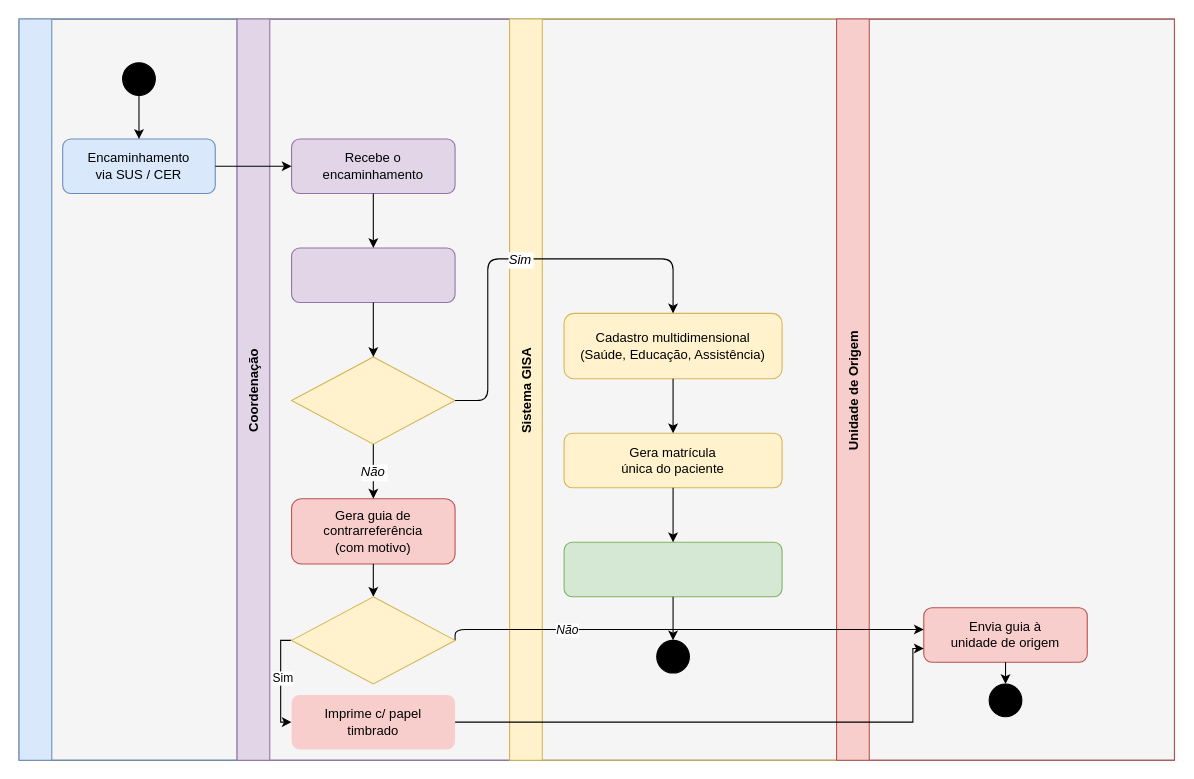
The diagram is 1194 pixels wide and 779 high, and some of its shapes have lost their labels. The box of each missing label's shape, as (x1, y1, x2, y2) in pixels:
Agenda primeira consulta: (563, 541, 782, 597)
Atende aos requisitos?: (290, 356, 455, 444)
Paciente / SUS: (18, 18, 237, 760)
Verifica documentação e CIDs: (290, 247, 455, 302)
É CER ?: (290, 596, 455, 684)
